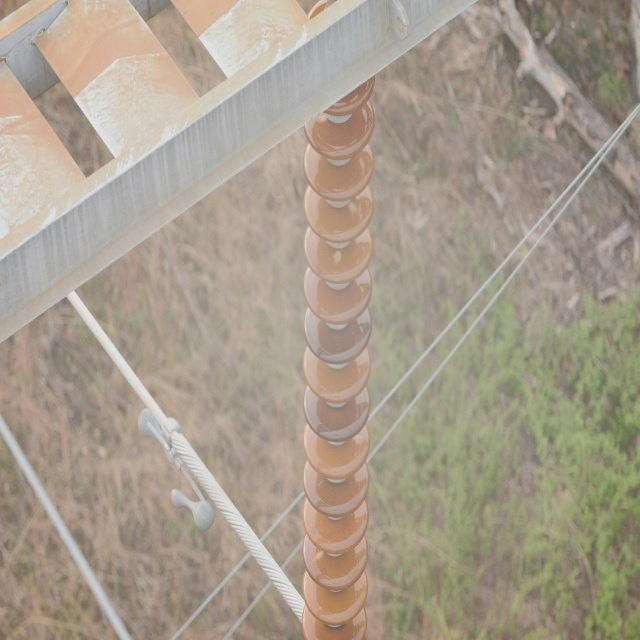insulator: (302, 46, 376, 640)
